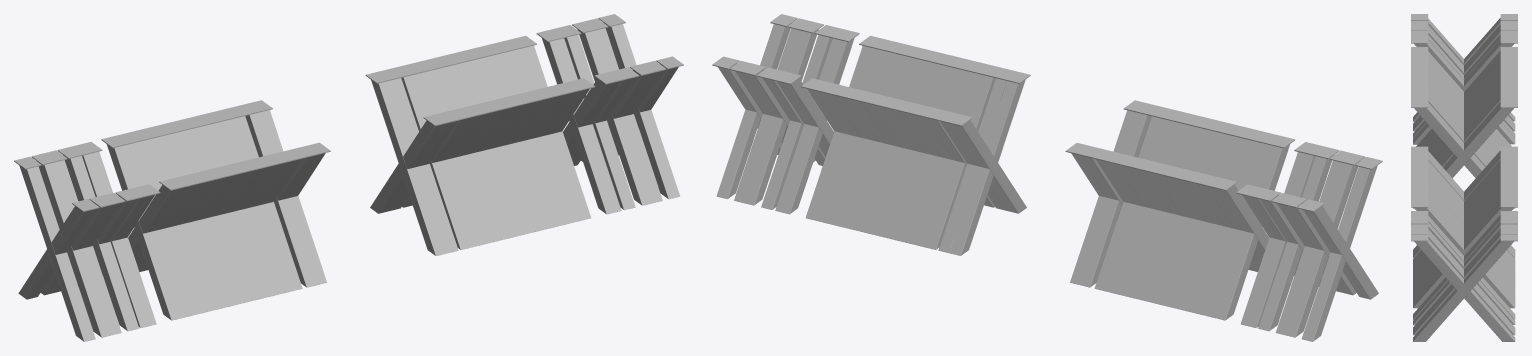
3 renders of one model, left to right at view 1: azimuth 30°, elevation 25°; view 2: azimuth 150°, elevation 25°; view 3: azimuth 270°, elevation 25°, orthographic. The views are drawn at different scales.
Visible parts, largest first — view 1: Rectangle_X_Shape_LEG, Oval_X_Shape_LEG, Verbaan_X_Shape_LEG, Boat_X_Shape_LEG, Halve_X_Shape_LEG; view 2: Rectangle_X_Shape_LEG, Oval_X_Shape_LEG, Verbaan_X_Shape_LEG, Boat_X_Shape_LEG, Halve_X_Shape_LEG; view 3: Rectangle_X_Shape_LEG, Oval_X_Shape_LEG, Verbaan_X_Shape_LEG, Halve_X_Shape_LEG, Boat_X_Shape_LEG.
Boxes of the visible parts, x1,y1,x2,y2 form: Rectangle_X_Shape_LEG: [14, 14, 683, 341]; Oval_X_Shape_LEG: [168, 52, 534, 307]; Verbaan_X_Shape_LEG: [40, 20, 657, 335]; Boat_X_Shape_LEG: [58, 33, 634, 330]; Halve_X_Shape_LEG: [31, 18, 666, 337]; Rectangle_X_Shape_LEG: [712, 14, 1382, 341]; Oval_X_Shape_LEG: [862, 53, 1225, 306]; Verbaan_X_Shape_LEG: [739, 20, 1356, 335]; Boat_X_Shape_LEG: [761, 33, 1339, 331]; Halve_X_Shape_LEG: [729, 18, 1365, 337]; Rectangle_X_Shape_LEG: [1411, 14, 1517, 341]; Oval_X_Shape_LEG: [1411, 71, 1517, 286]; Verbaan_X_Shape_LEG: [1411, 23, 1517, 331]; Halve_X_Shape_LEG: [1411, 20, 1517, 335]; Boat_X_Shape_LEG: [1411, 30, 1517, 325].
Size of the model in its own units: 3.43 by 0.7228 by 0.684.
Materials: 5 (5 with a texture image).
